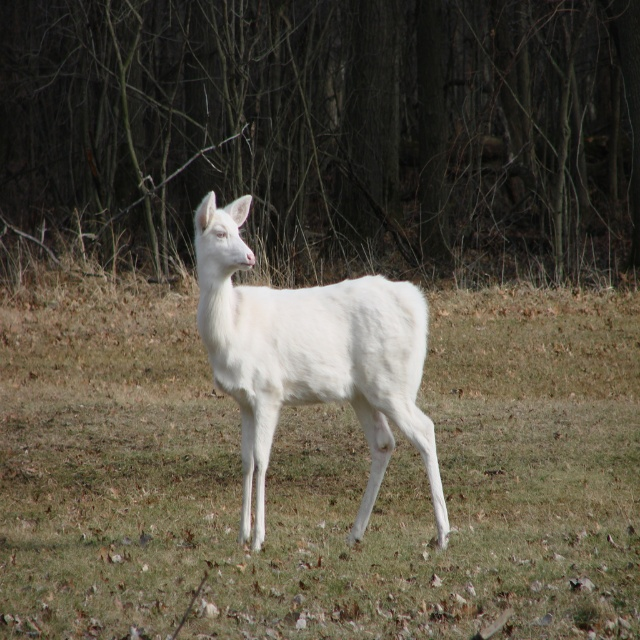Goat: (192, 189, 451, 556)
